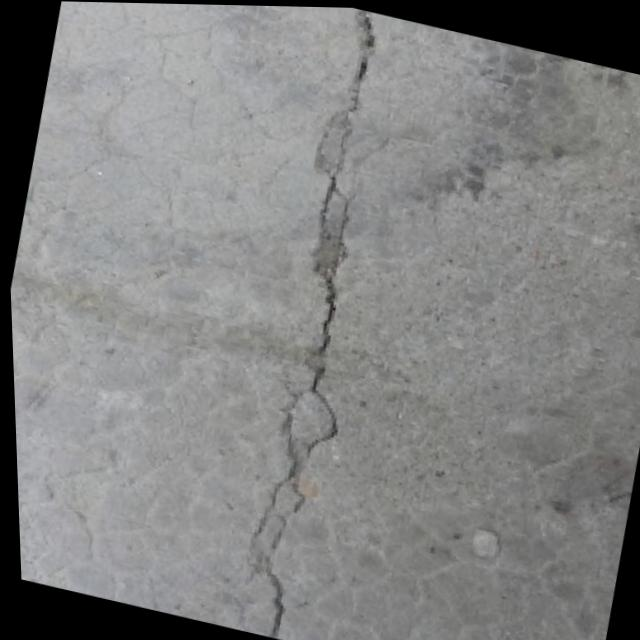Crack: (191, 3, 441, 640)
